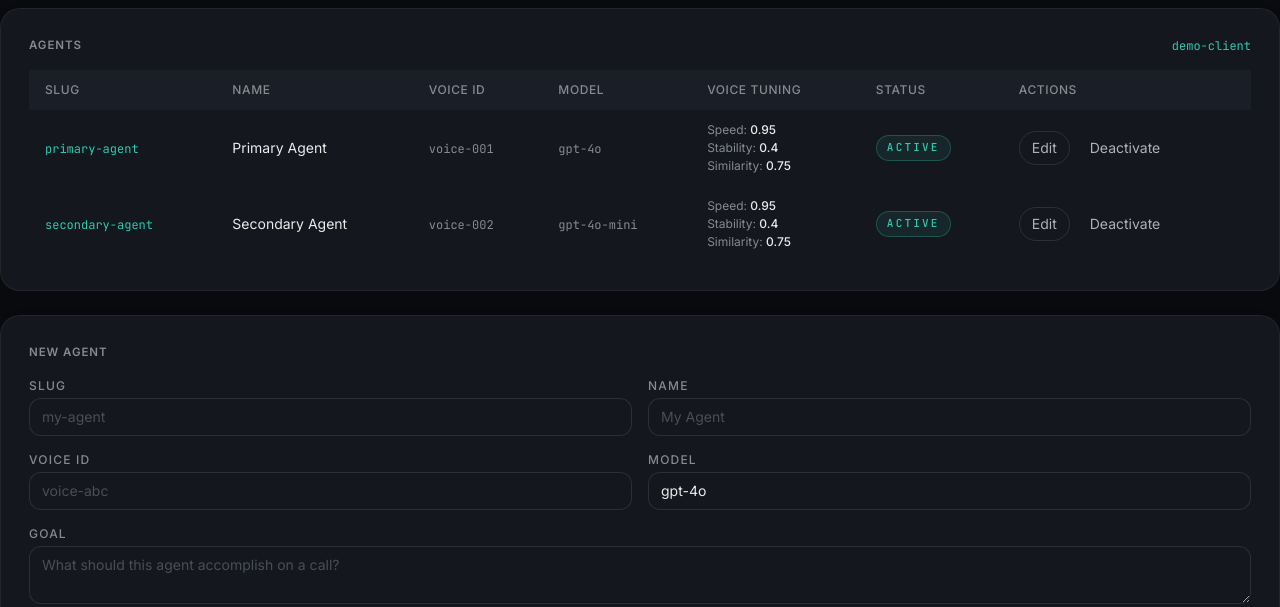
Test case: AgentsSection revisions panel › shows the active revision number and its ElevenLabs sync status
Click the button "Edit" in the row of "primary-agent" at (1044, 148), box [1019,131,1070,165]
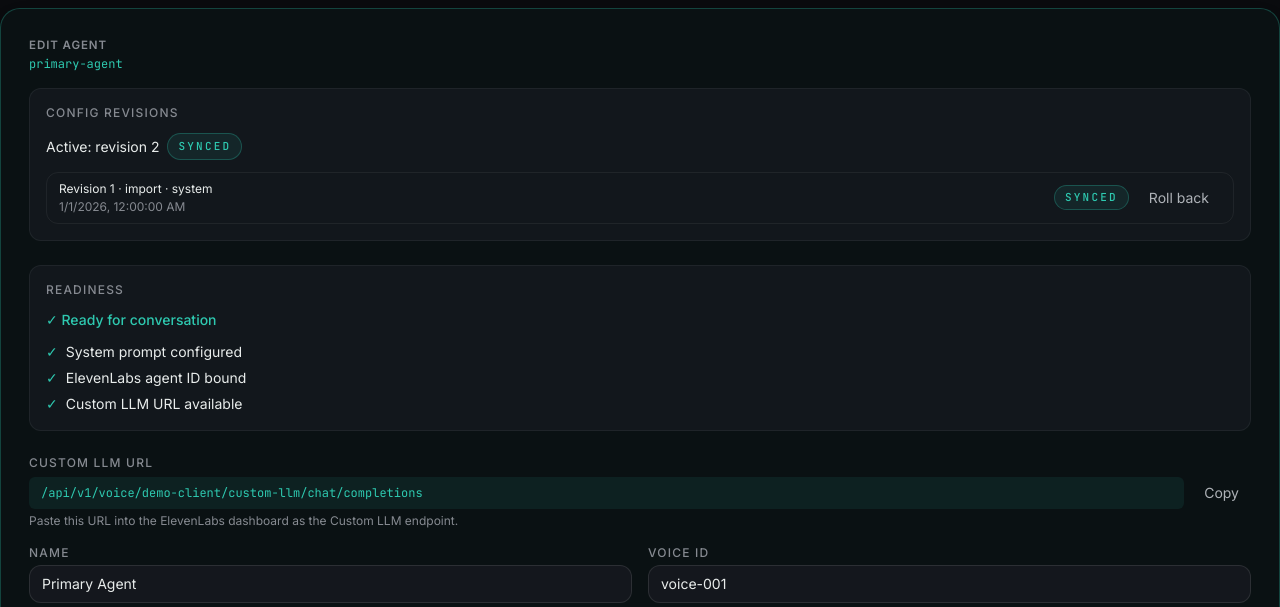
Expected: the text "Active: revision 2" is shown, [46,136,160,156]
